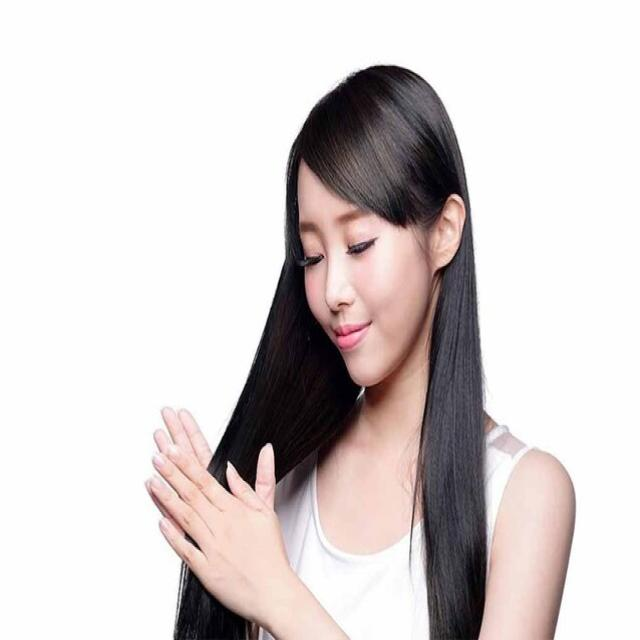Nonhelmet: (276, 49, 483, 394)
